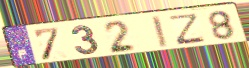2: (102, 19, 138, 55)
3: (70, 24, 100, 57)
7: (33, 26, 62, 62)
8: (207, 9, 238, 41)
I: (149, 14, 171, 50)
Z: (169, 12, 207, 46)
